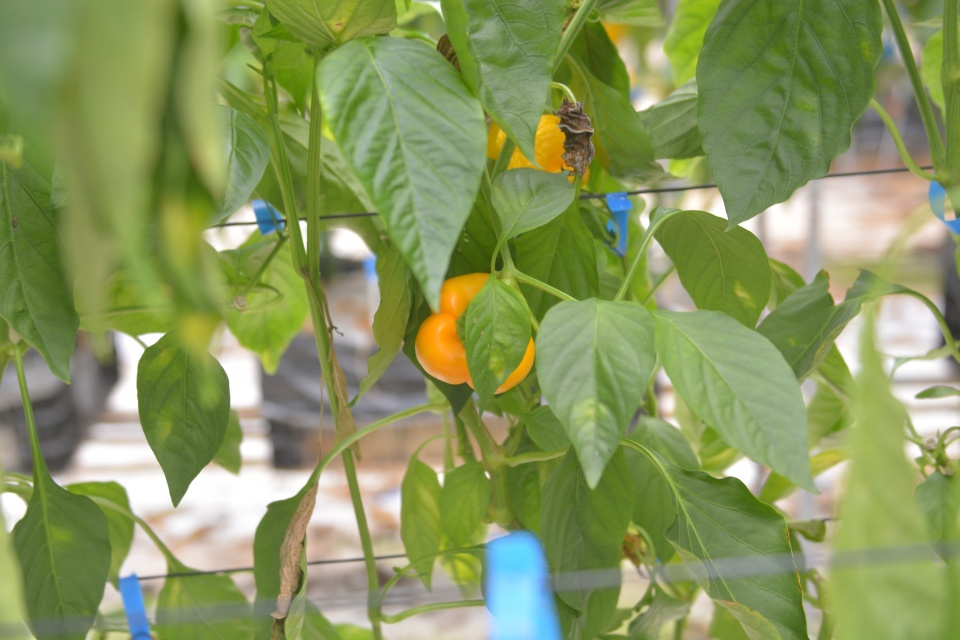fruit: (411, 266, 537, 396), (483, 112, 592, 193)
